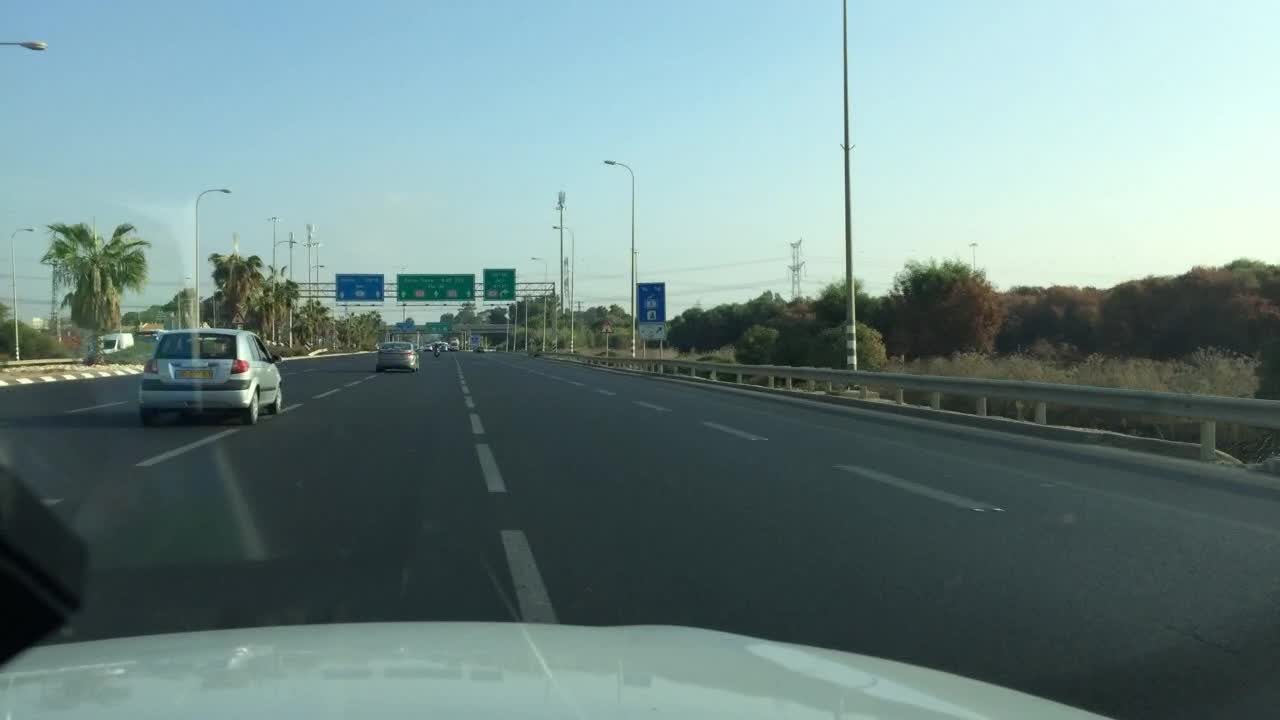car: (136, 325, 284, 430), (376, 339, 420, 375), (100, 331, 135, 353), (137, 330, 161, 344), (437, 340, 449, 353), (450, 339, 460, 352), (423, 344, 433, 352)
motor: (432, 349, 441, 358)
rider: (433, 342, 439, 351)
traffic sign: (396, 273, 475, 302), (335, 272, 384, 302), (635, 281, 665, 321), (483, 268, 515, 301), (638, 322, 667, 340), (394, 322, 416, 332), (425, 323, 453, 330), (599, 320, 613, 333), (470, 335, 480, 343), (405, 317, 414, 325)
